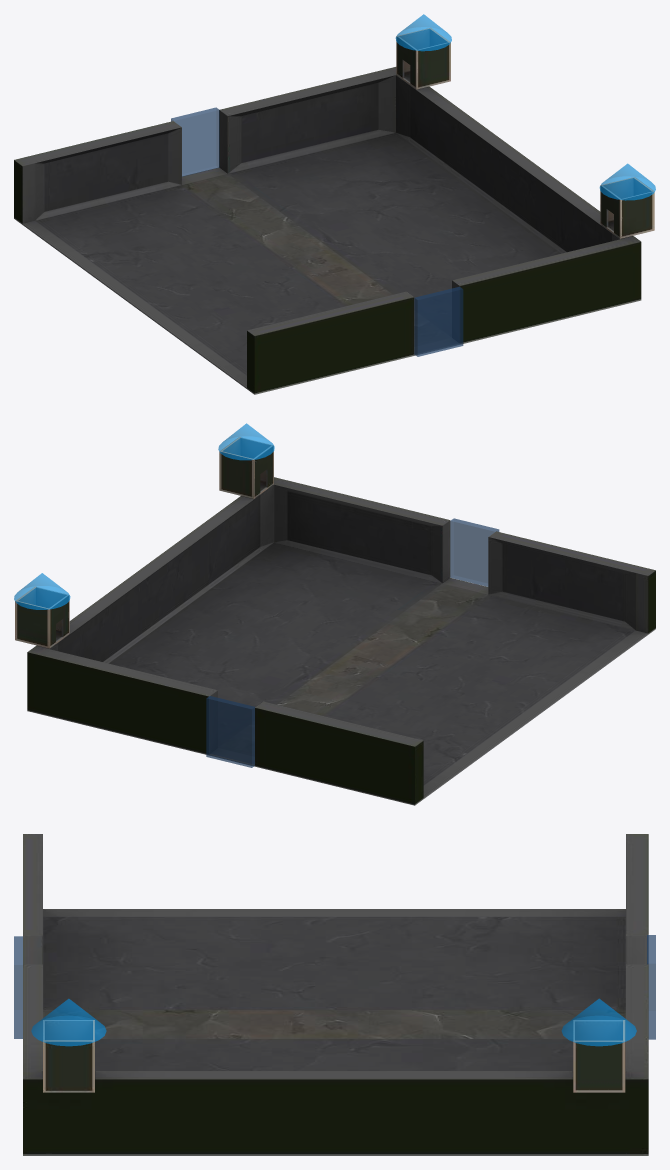
The picture shows the model from 3 angles, top to bottom: view 1: azimuth 30°, elevation 25°; view 2: azimuth 150°, elevation 25°; view 3: azimuth 270°, elevation 25°; orthographic projection. The views are drawn at different scales.
Parts seen in each view (by area): view 1: pCube7, pCube2, pCube3, pCone2, pCone1; view 2: pCube7, pCube3, pCube2, pCone2, pCone1; view 3: pCube7, pCone1, pCone2, pCube2, pCube3.
Part boxes in pixels (<box>): pCube7: <box>14,28,654,394</box>; pCube2: <box>414,286,463,356</box>; pCube3: <box>171,107,219,176</box>; pCone2: <box>599,163,655,200</box>; pCone1: <box>395,14,451,51</box>; pCube7: <box>15,437,655,805</box>; pCube3: <box>206,696,255,767</box>; pCube2: <box>450,518,499,586</box>; pCone2: <box>218,423,274,460</box>; pCone1: <box>14,573,70,609</box>; pCube7: <box>23,834,648,1155</box>; pCone1: <box>561,998,636,1046</box>; pCone2: <box>31,999,106,1046</box>; pCube2: <box>14,936,22,1038</box>; pCube3: <box>647,935,655,1039</box>.
Bounding box in the file's own units: 92.35 × 26.17 × 95.12.
3 materials, 1 textured.
